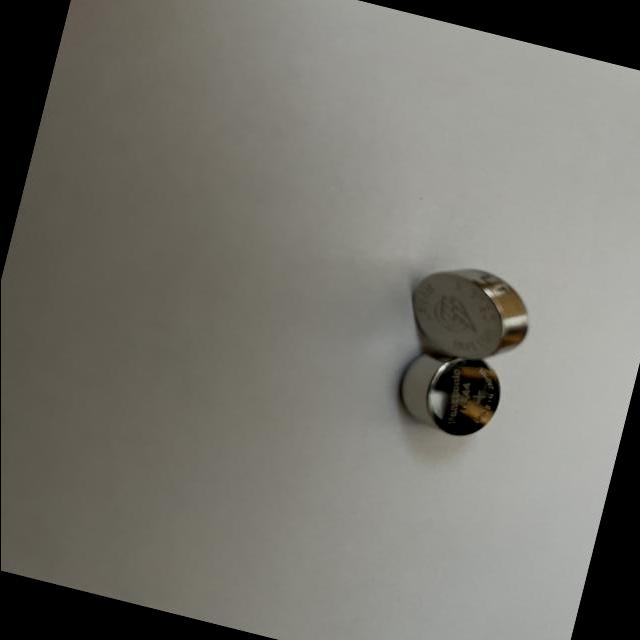COIN: (402, 255, 539, 372), (393, 344, 507, 444)
